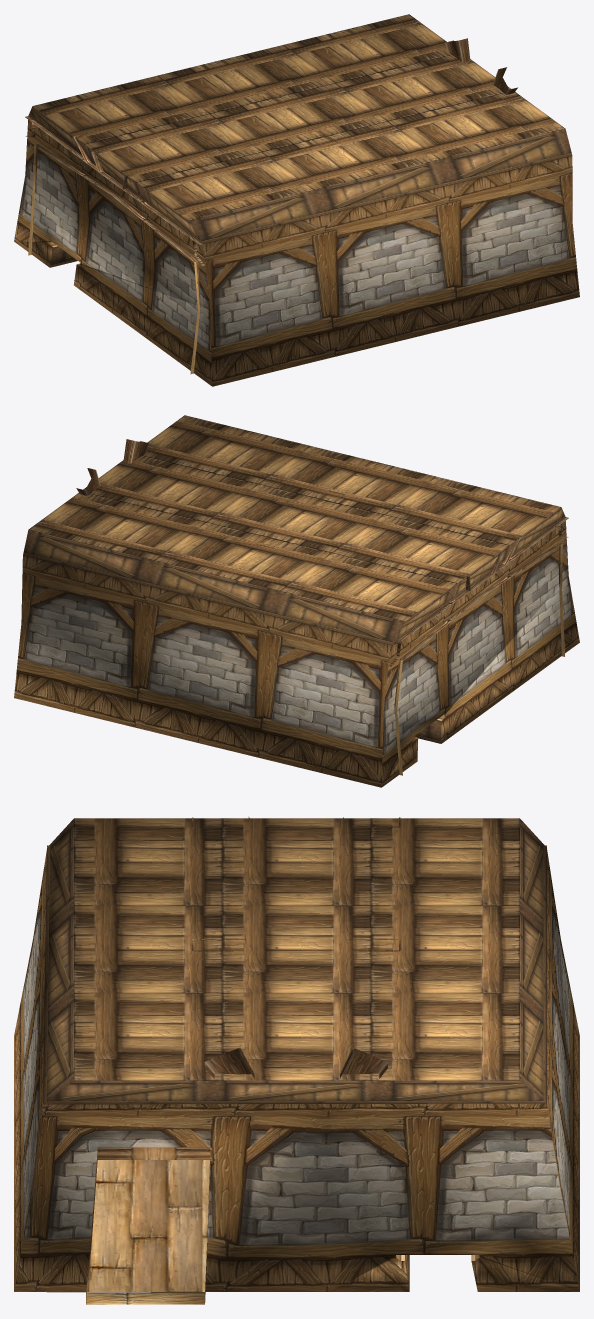
The model's file is stormwind_192.fbx.
3 views of the same model, one above another, from view 1: azimuth 30°, elevation 25°; view 2: azimuth 150°, elevation 25°; view 3: azimuth 270°, elevation 25° (orthographic). The views are drawn at different scales.
Parts seen in each view (by area): view 1: stormwind_192_87, stormwind_192_55, stormwind_192_56, stormwind_192_53; view 2: stormwind_192_87, stormwind_192_55, stormwind_192_56, stormwind_192_53; view 3: stormwind_192_55, stormwind_192_87, stormwind_192_56, stormwind_192_51, stormwind_192_53, stormwind_192_49.
Part boxes in pixels (x1,y1,x2,y2): stormwind_192_87: (14, 120, 579, 386); stormwind_192_55: (33, 14, 564, 220); stormwind_192_56: (28, 106, 572, 267); stormwind_192_53: (25, 38, 564, 374); stormwind_192_87: (14, 521, 579, 787); stormwind_192_55: (29, 415, 560, 621); stormwind_192_56: (23, 507, 565, 743); stormwind_192_53: (76, 439, 568, 775); stormwind_192_55: (74, 818, 519, 1080); stormwind_192_87: (14, 850, 579, 1292); stormwind_192_56: (43, 819, 546, 1289); stormwind_192_51: (87, 1160, 209, 1291); stormwind_192_53: (18, 816, 546, 1304); stormwind_192_49: (86, 1147, 210, 1303).
Size of the model in its own units: 17.04 by 7.18 by 14.96.
